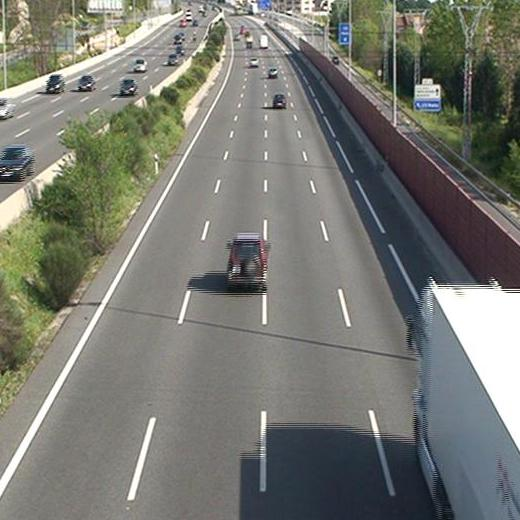car: (227, 237, 266, 284), (273, 93, 286, 106), (268, 68, 278, 77), (249, 57, 257, 66)
